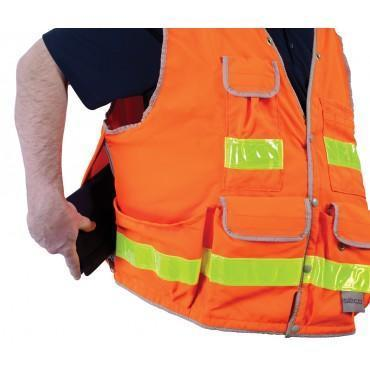vest: (82, 27, 369, 339)
